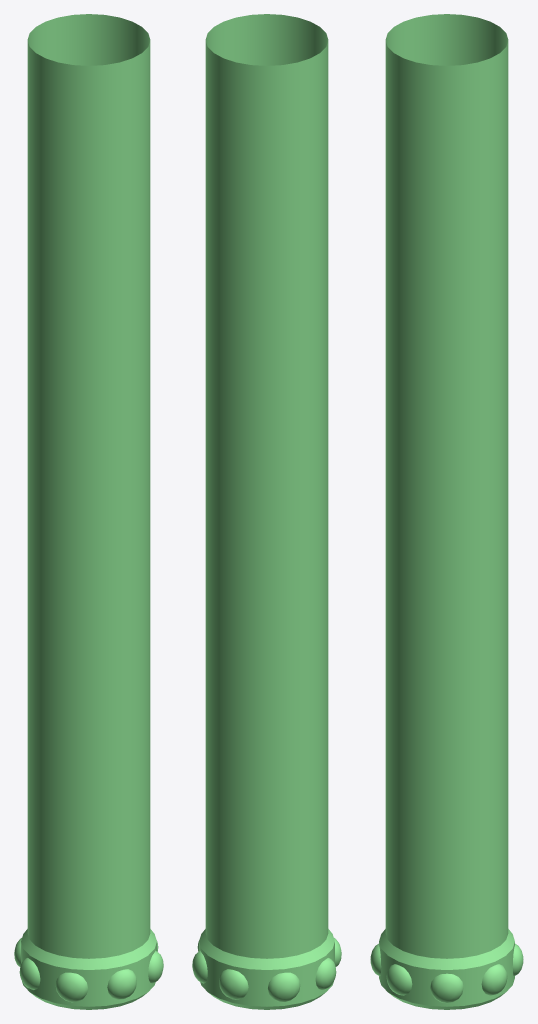
The model's file is pipe_large_oneside.fbx.
3 renders of one model, left to right at view 1: azimuth 30°, elevation 25°; view 2: azimuth 150°, elevation 25°; view 3: azimuth 270°, elevation 25°, orthographic.
Parts seen in each view (by area): view 1: pipe_large_oneside; view 2: pipe_large_oneside; view 3: pipe_large_oneside.
Part boxes in pixels (bbox=[...]): pipe_large_oneside: bbox=[14, 14, 163, 1009]; pipe_large_oneside: bbox=[192, 14, 341, 1009]; pipe_large_oneside: bbox=[370, 14, 523, 1009].
Size of the model in its own units: 132 by 900 by 132.
